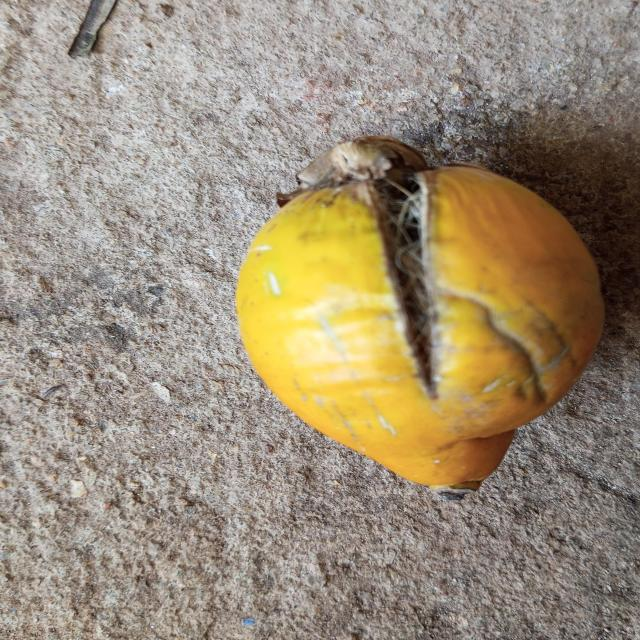damaged: (236, 136, 604, 499)
